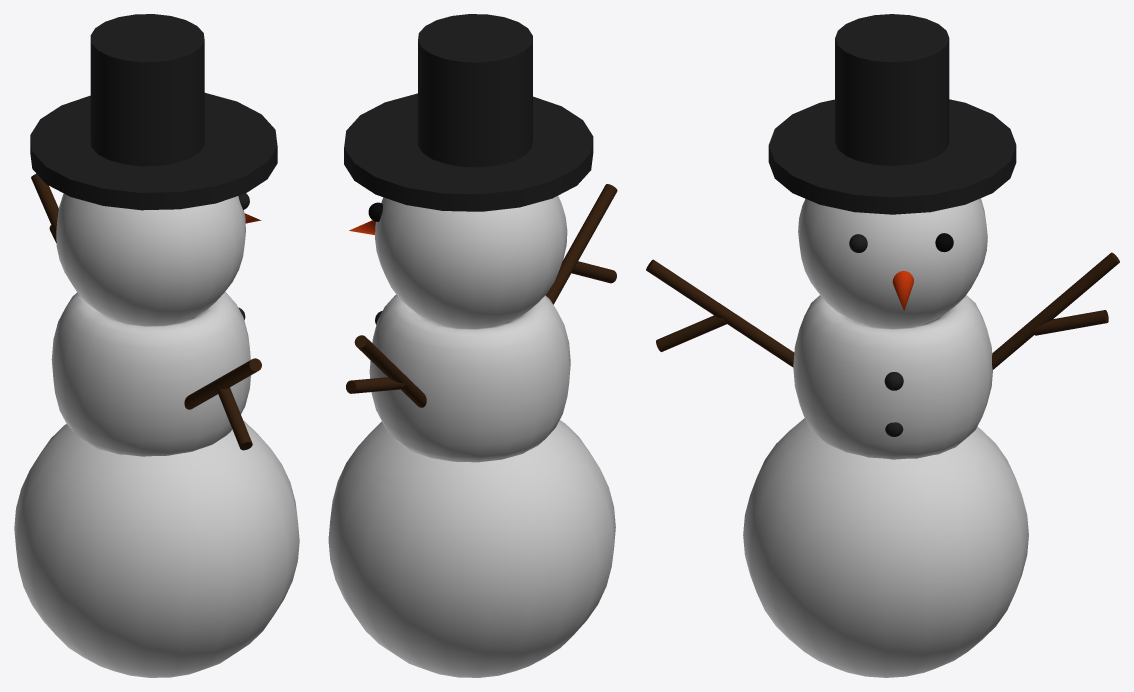
The model's file is snowMan.dae.
3 renders of one model, left to right at view 1: azimuth 30°, elevation 25°; view 2: azimuth 150°, elevation 25°; view 3: azimuth 270°, elevation 25°, orthographic.
Parts seen in each view (by area): view 1: pSphere1, pTorus1, pSphere2, pCylinder1, pCylinder2, pasted__pCylinder3, pCylinder4, pCylinder3; view 2: pSphere1, pTorus1, pSphere2, pCylinder1, pCylinder2, pasted__pCylinder3, pCylinder3, pasted__pCylinder4, pCylinder4; view 3: pSphere1, pTorus1, pSphere2, pCylinder1, pCylinder2, pasted__pCylinder3, pCylinder3, pasted__pCylinder4, pCylinder4.
Boxes of the visible parts, bbox=[...] form: pSphere1: bbox=[14, 420, 299, 677]; pTorus1: bbox=[51, 292, 250, 456]; pSphere2: bbox=[56, 193, 245, 325]; pCylinder1: bbox=[30, 93, 277, 210]; pCylinder2: bbox=[90, 14, 204, 166]; pasted__pCylinder3: bbox=[184, 358, 261, 409]; pCylinder4: bbox=[216, 387, 252, 450]; pCylinder3: bbox=[31, 173, 58, 235]; pSphere1: bbox=[328, 420, 615, 677]; pTorus1: bbox=[369, 294, 570, 462]; pSphere2: bbox=[375, 196, 567, 328]; pCylinder1: bbox=[344, 93, 593, 211]; pCylinder2: bbox=[418, 14, 532, 167]; pasted__pCylinder3: bbox=[545, 184, 617, 304]; pCylinder3: bbox=[354, 335, 426, 407]; pasted__pCylinder4: bbox=[346, 377, 405, 393]; pCylinder4: bbox=[571, 261, 616, 283]; pSphere1: bbox=[743, 418, 1028, 677]; pTorus1: bbox=[793, 295, 992, 459]; pSphere2: bbox=[798, 198, 987, 328]; pCylinder1: bbox=[768, 99, 1016, 214]; pCylinder2: bbox=[835, 14, 949, 165]; pasted__pCylinder3: bbox=[646, 259, 794, 367]; pCylinder3: bbox=[992, 252, 1119, 369]; pasted__pCylinder4: bbox=[1033, 310, 1108, 335]; pCylinder4: bbox=[656, 315, 727, 351].
Bounding box in the file's own units: 3 × 7.22 × 4.97.
